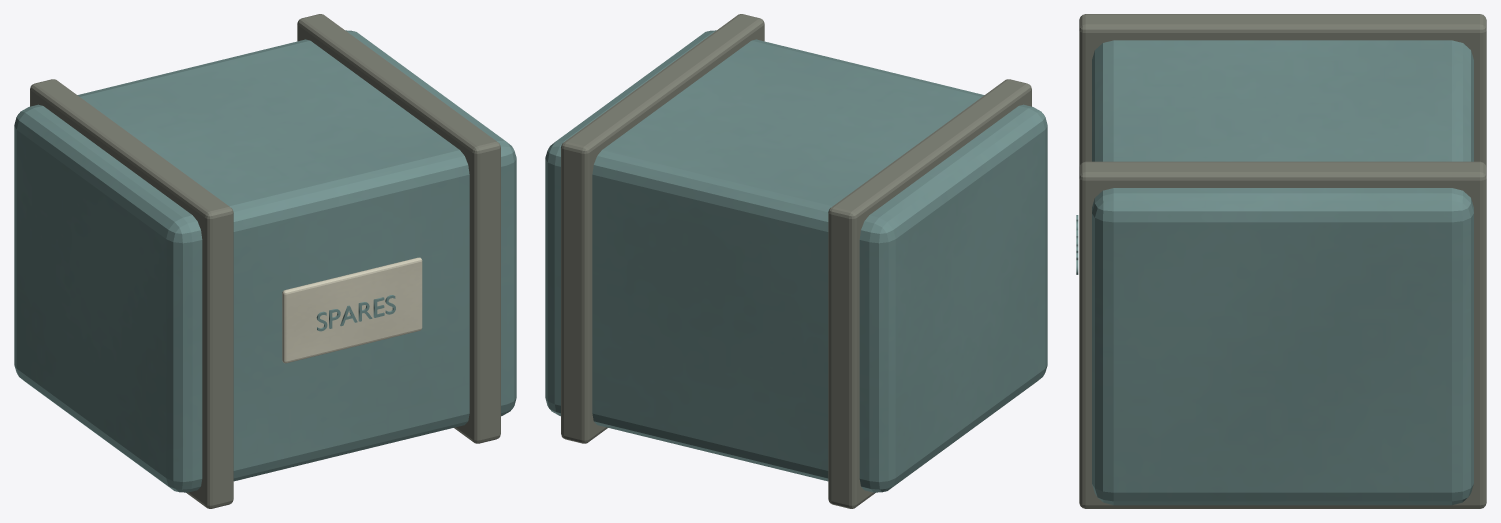
File: Component_Crate.glb
3 renders of one model, left to right at view 1: azimuth 30°, elevation 25°; view 2: azimuth 150°, elevation 25°; view 3: azimuth 270°, elevation 25°, orthographic. The views are drawn at different scales.
Visible parts, largest first — view 1: Component_Crate; view 2: Component_Crate; view 3: Component_Crate.
Part boxes in pixels (<box>): Component_Crate: <box>14,14,516,508</box>; Component_Crate: <box>545,14,1047,508</box>; Component_Crate: <box>1076,14,1486,508</box>.
Size of the model in its own units: 1.25 by 1.02 by 1.13.
Materials: 3 (2 with a texture image).
